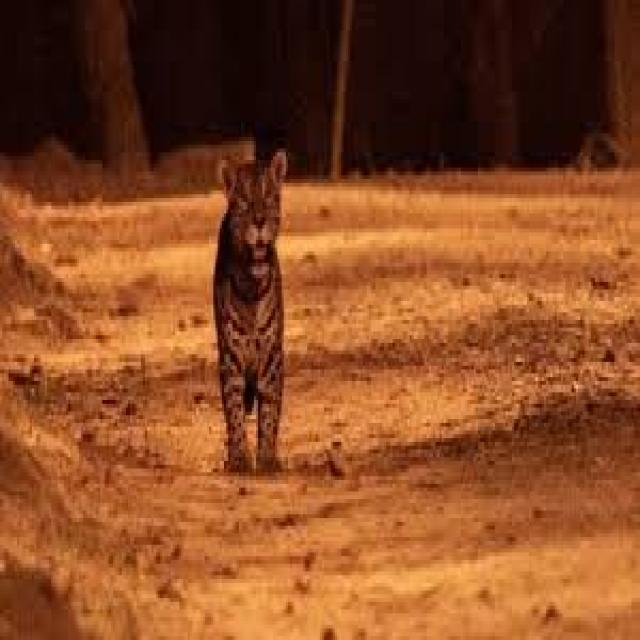Jaguar: (211, 148, 290, 484)
